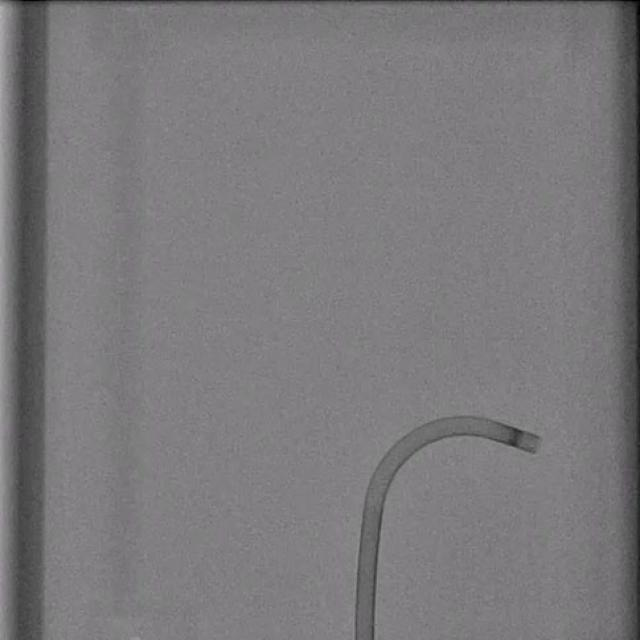bend: (365, 492, 385, 507)
entry: (356, 633, 376, 640)
marker: (507, 428, 524, 447)
tip: (532, 436, 542, 454)
